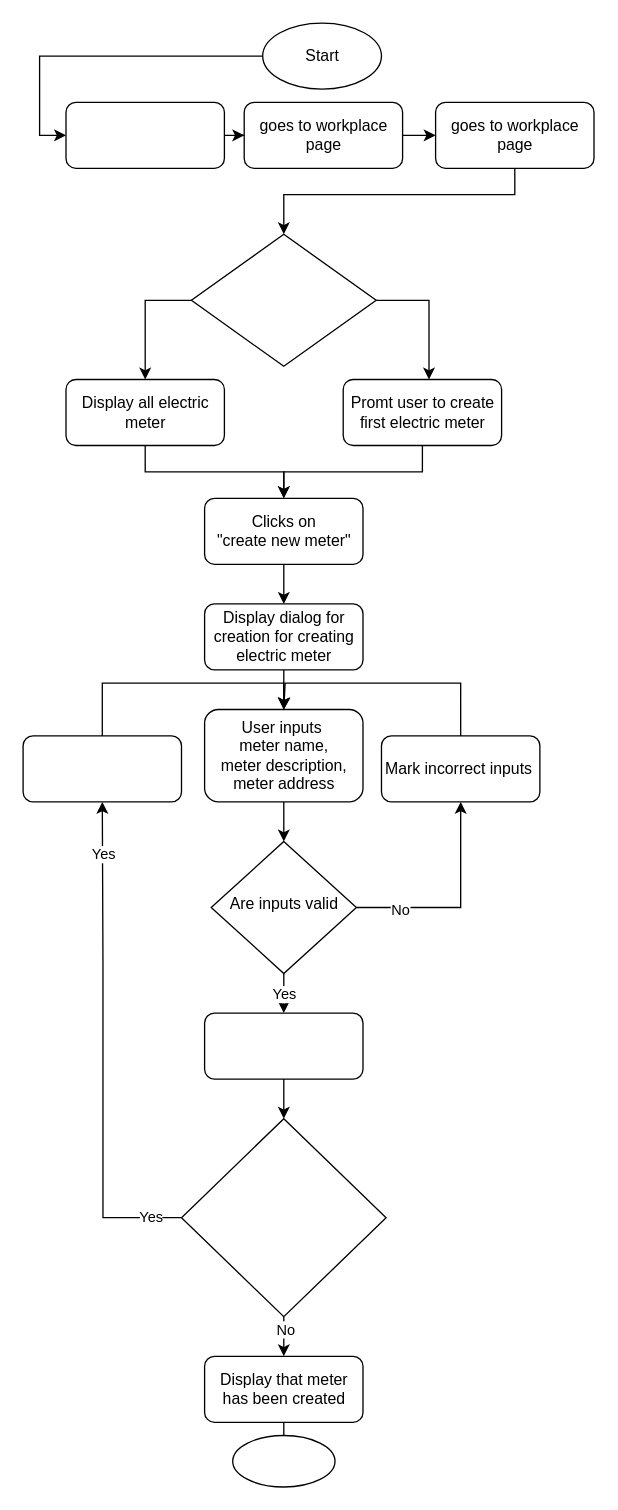
Some shapes in this 618 by 1510 pixel diagram are drawn without their labels. Each missing label, with the centre of its shape:
"Display that electric meter exists" belongs at [102,768].
"Does workplace have any electric meters" belongs at [283,299].
"End" belongs at [283,1460].
"Is there а meter whit the same name or address?" belongs at [283,1217].
"Send request to server" belongs at [283,1045].
"User is logged in and wants to add a yes electric meter" belongs at [144,134].
